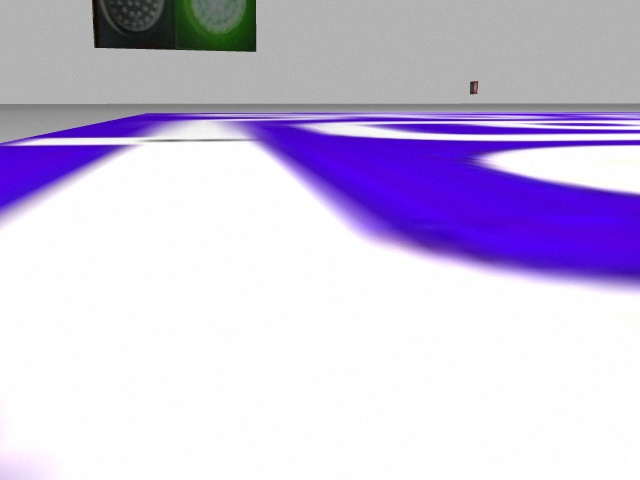green: (174, 3, 258, 50)
